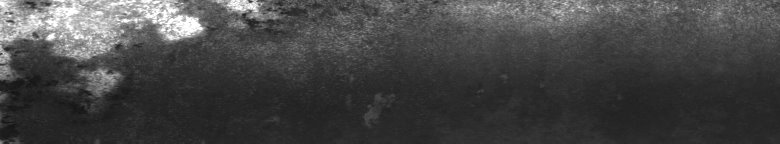kb: (4, 4, 380, 100)
